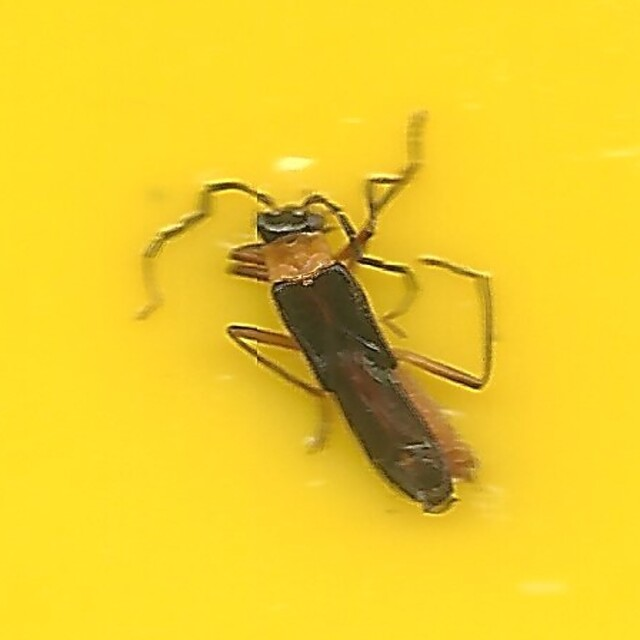Coleoptera: (143, 120, 497, 520)
